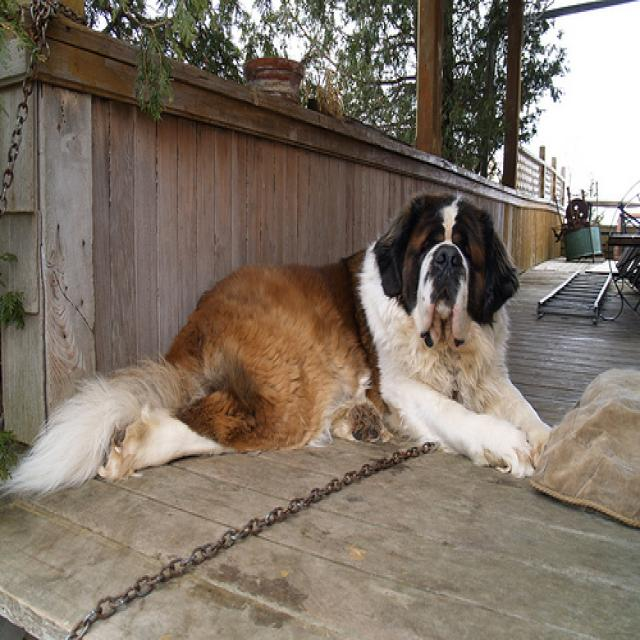dog-saint_bernard: (8, 186, 552, 493)
